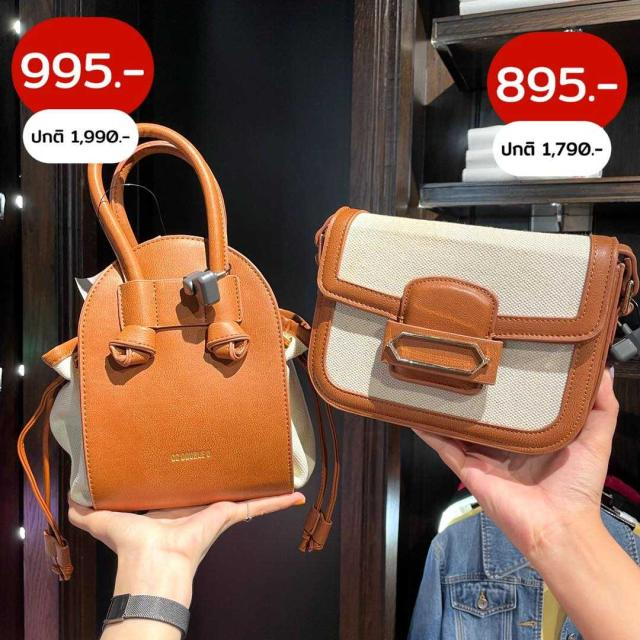Handbag: (302, 201, 623, 468), (80, 208, 301, 511)
